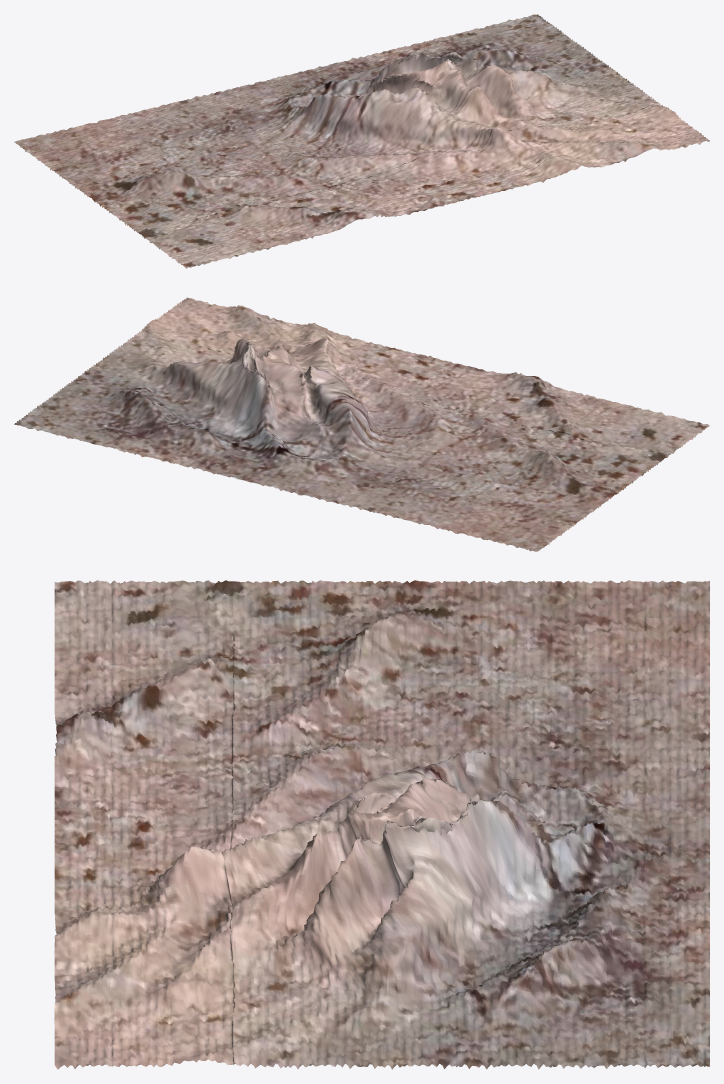
The model's file is Akmeshit.glb.
The picture shows the model from 3 angles, top to bottom: view 1: azimuth 30°, elevation 25°; view 2: azimuth 150°, elevation 25°; view 3: azimuth 270°, elevation 25°; orthographic projection. The views are drawn at different scales.
Visible parts, largest first — view 1: EXPORT_GOOGLE_SAT_WM; view 2: EXPORT_GOOGLE_SAT_WM; view 3: EXPORT_GOOGLE_SAT_WM.
Boxes of the visible parts, x1,y1,x2,y2 form: EXPORT_GOOGLE_SAT_WM: (14, 14, 709, 268); EXPORT_GOOGLE_SAT_WM: (14, 297, 709, 551); EXPORT_GOOGLE_SAT_WM: (54, 580, 709, 1069).
Size of the model in its own units: 1.91e+07 by 2067215 by 1.16e+07.
Materials: 2 (1 with a texture image).
